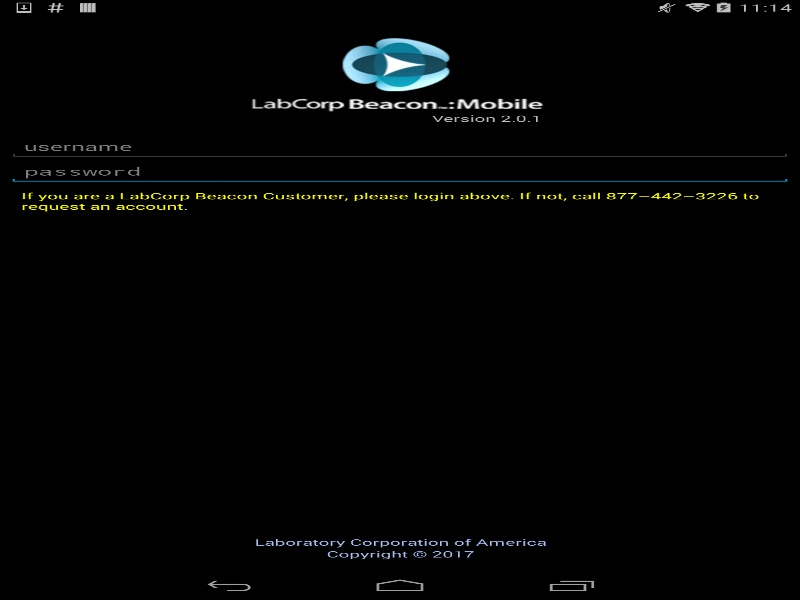Input: (8, 134, 792, 159), (8, 159, 792, 183)
